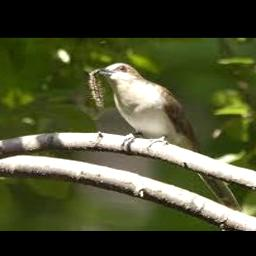Cuckoo: (94, 63, 240, 212)
